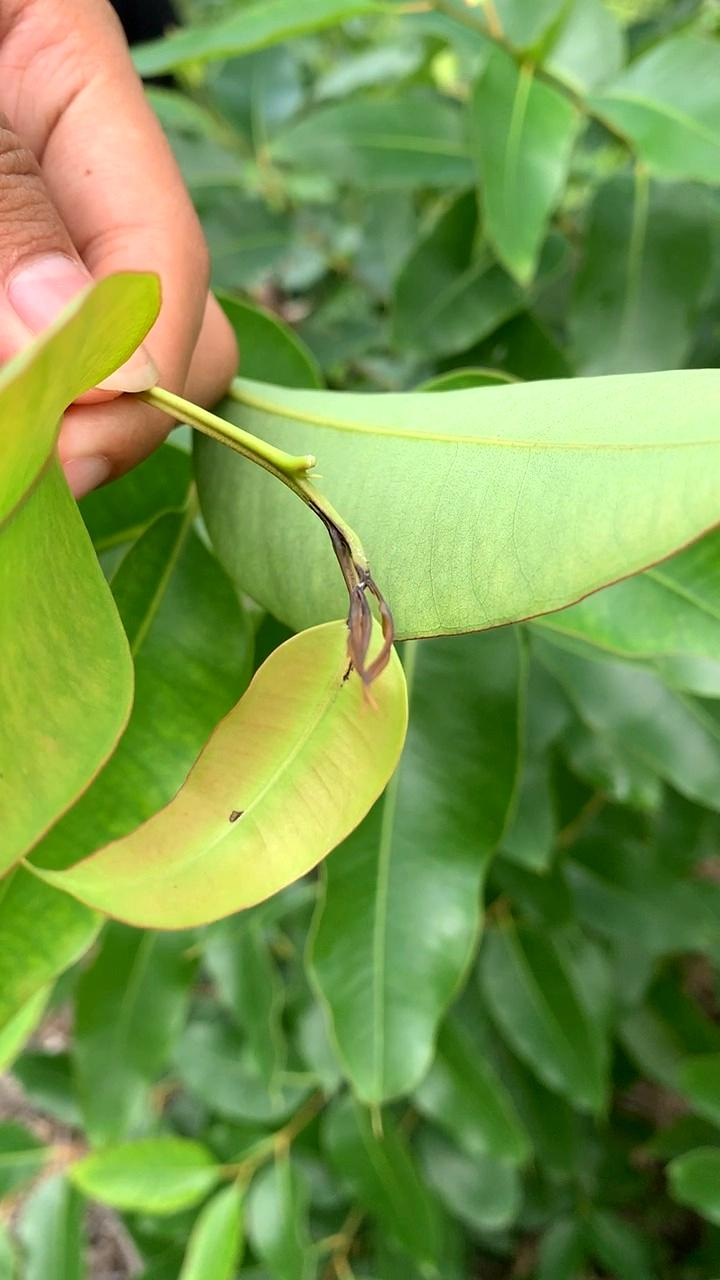Helopeltis-Withered Sprout: (310, 520, 415, 699)
